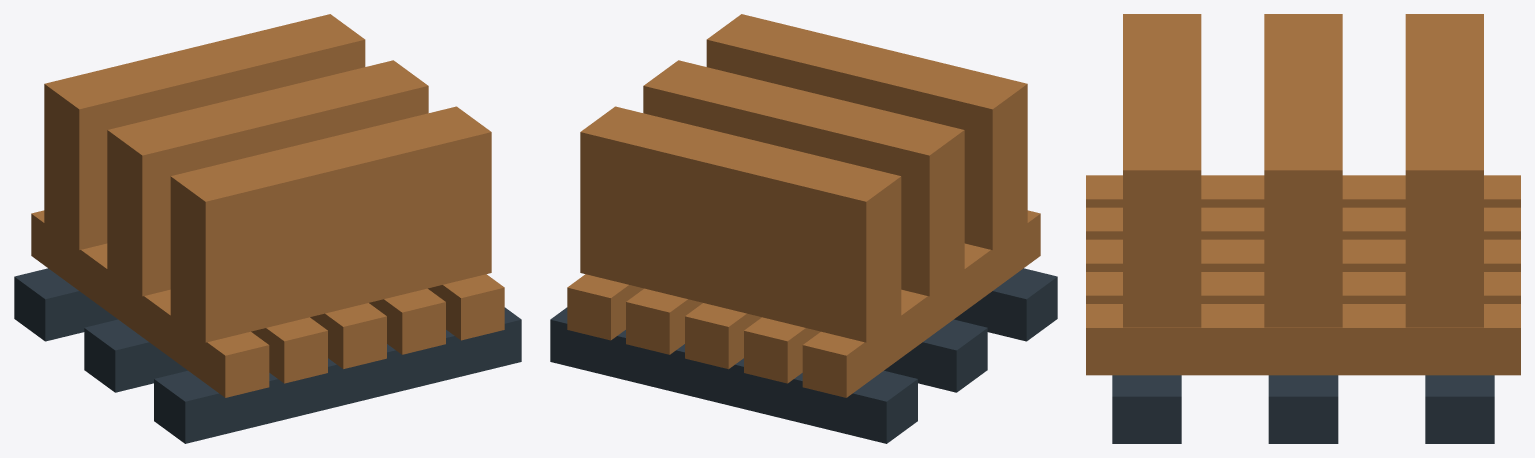
Rendered from editor_pallet.obj.
3 renders of one model, left to right at view 1: azimuth 30°, elevation 25°; view 2: azimuth 150°, elevation 25°; view 3: azimuth 270°, elevation 25°, orthographic. The views are drawn at different scales.
Bounding box in the file's own units: 2 × 1.32 × 2.
Materials: 2 (2 with a texture image).
